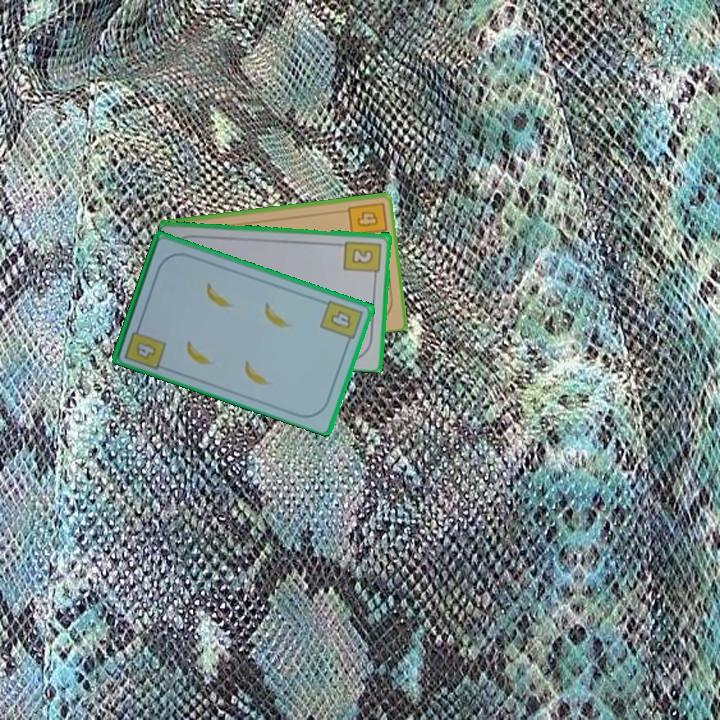2b: (341, 237, 384, 281)
4b: (317, 296, 367, 347), (121, 319, 169, 372), (344, 199, 389, 241)
